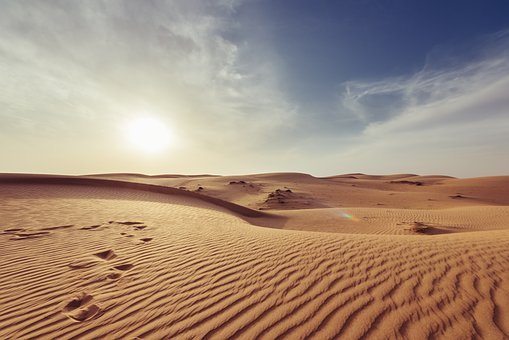ground: (2, 168, 506, 340)
sky: (1, 1, 509, 182)
